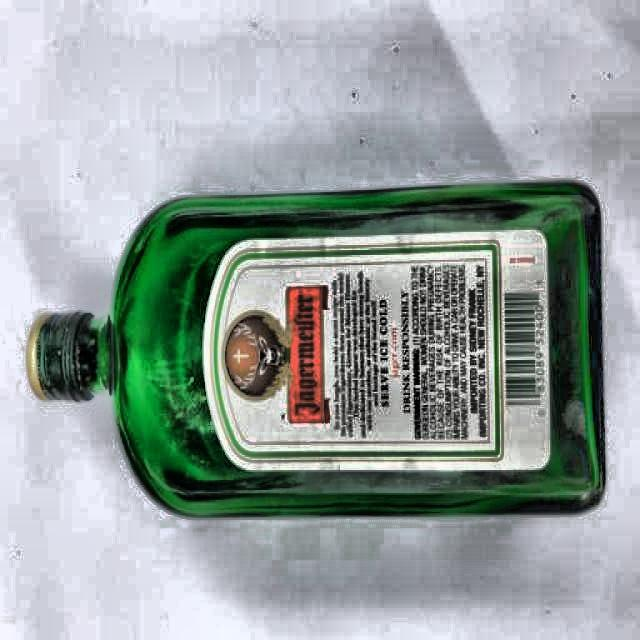glass: (29, 181, 608, 521)
